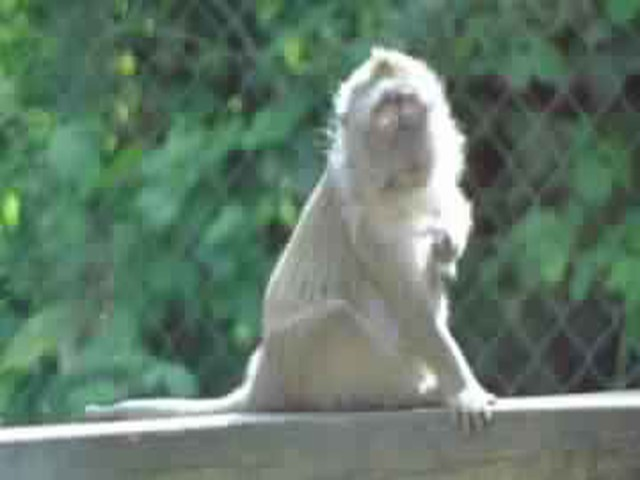Monkey: (161, 43, 498, 454)
